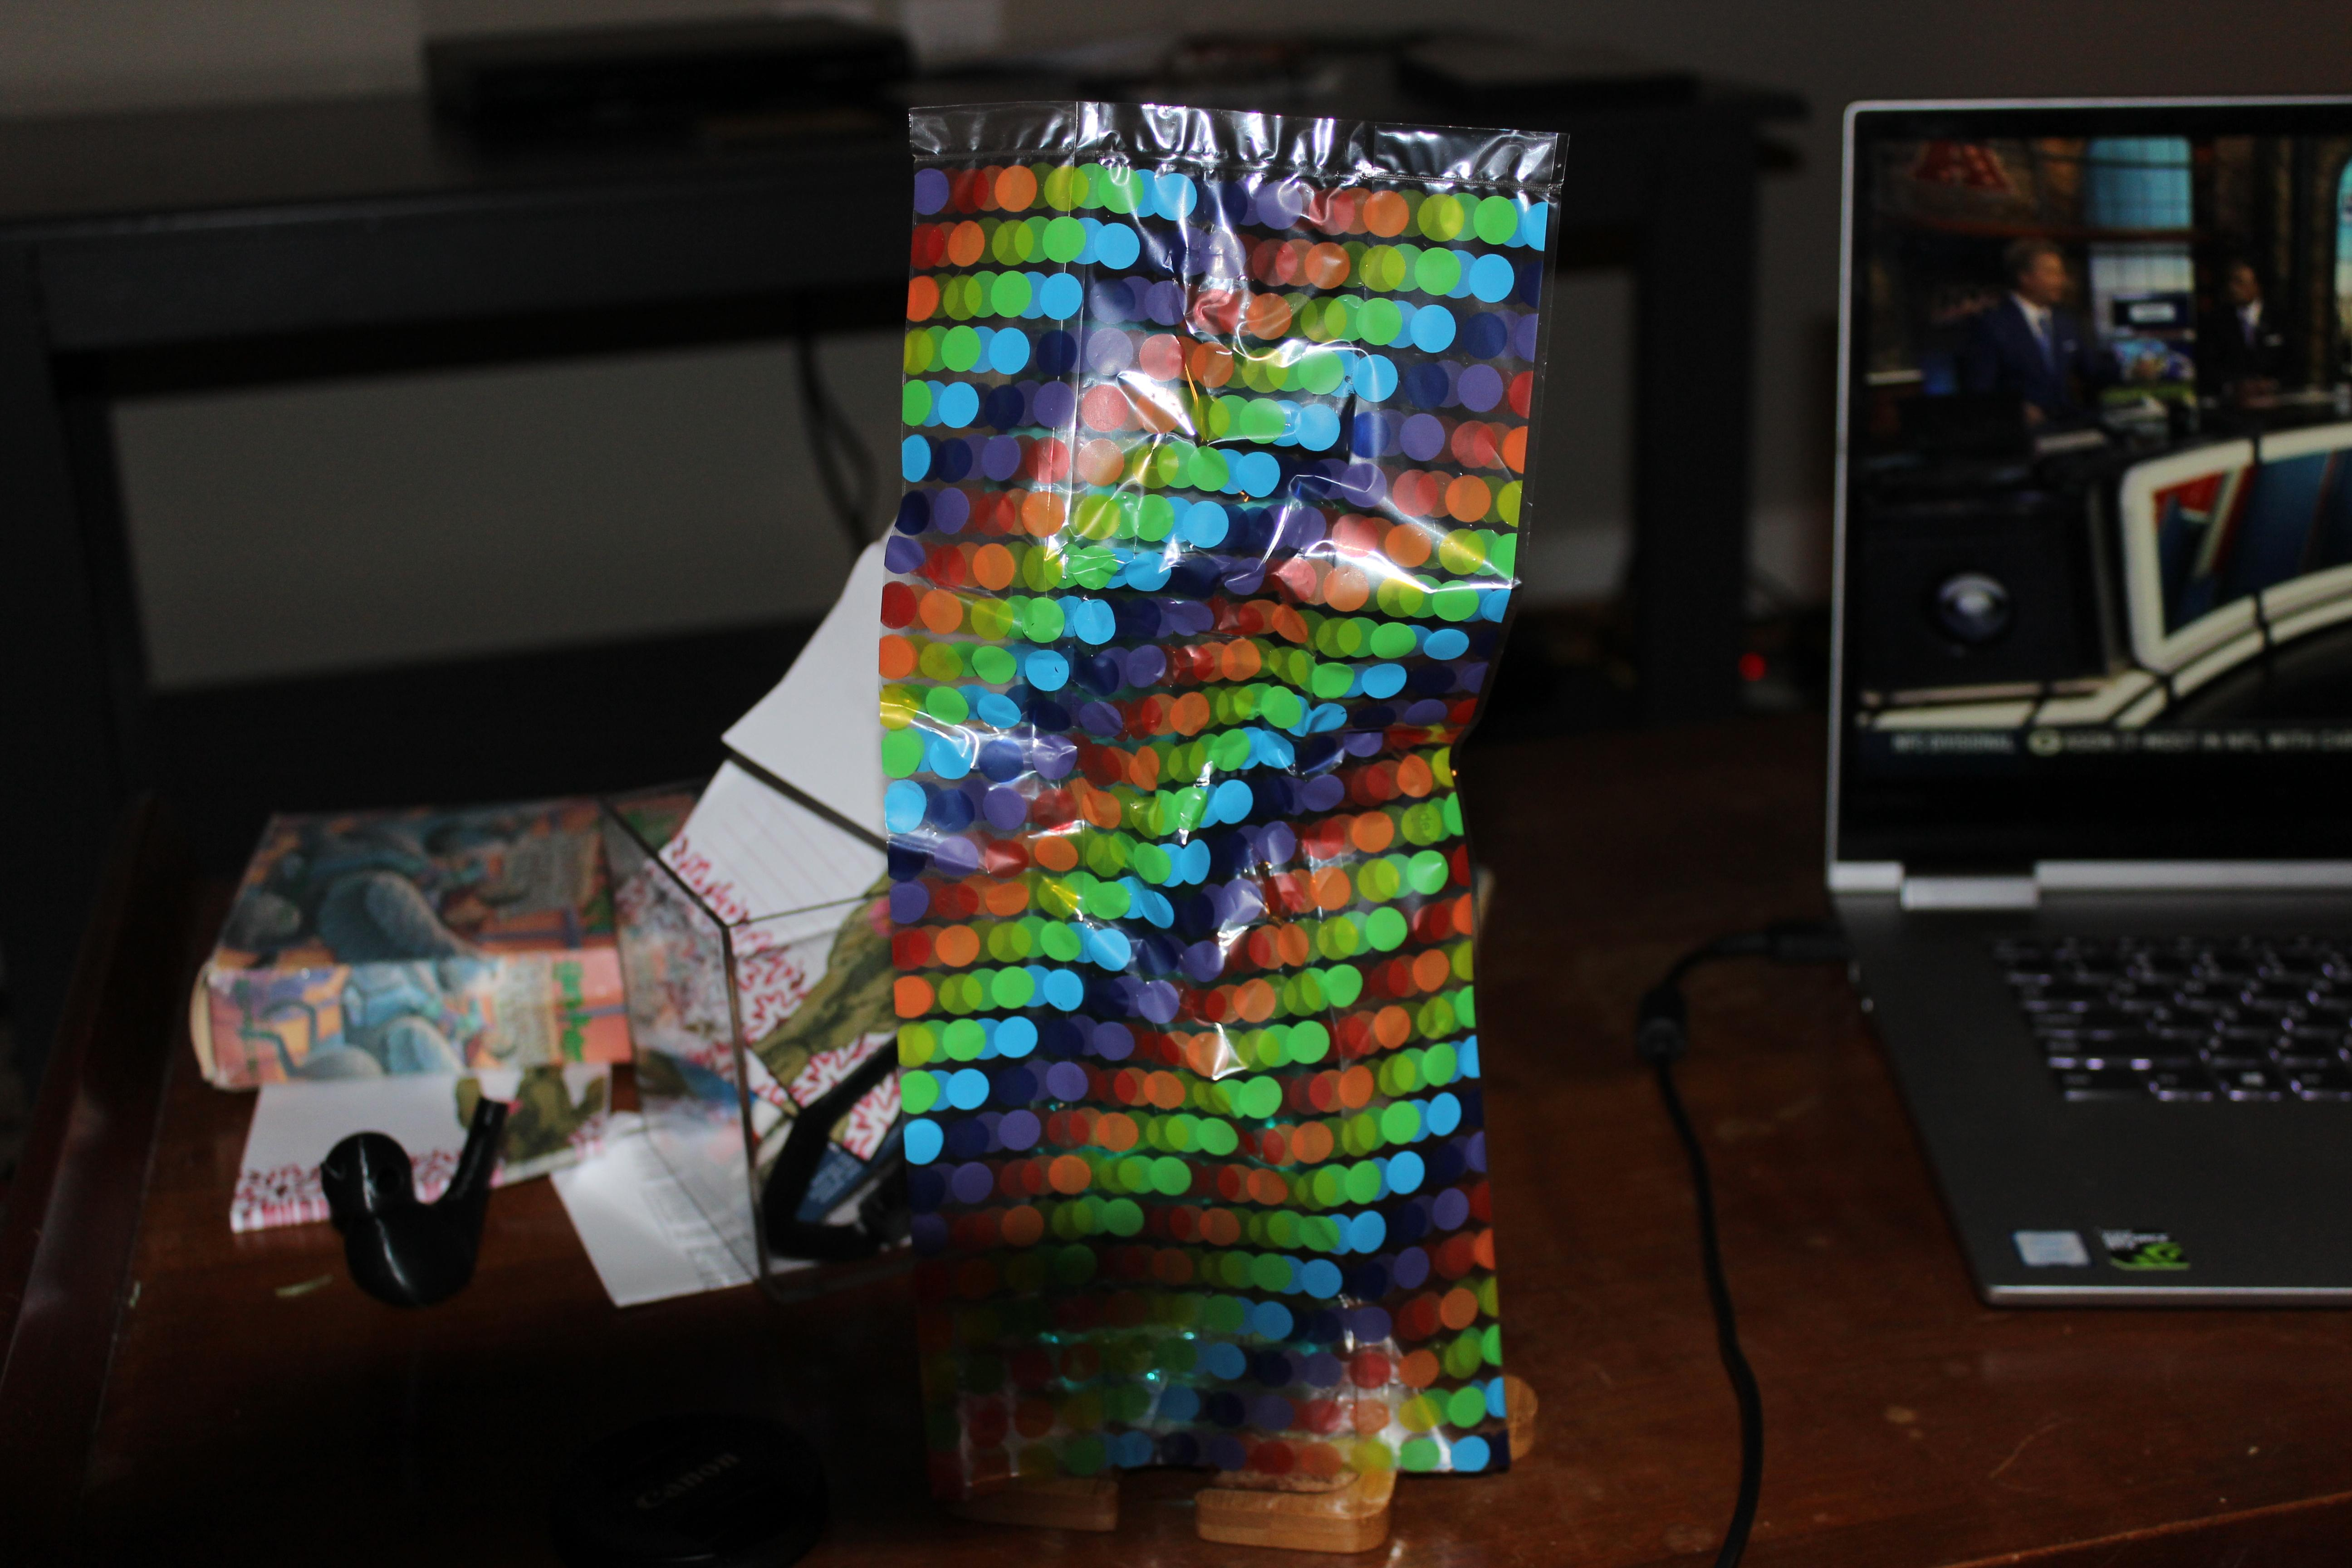giftBag: (863, 86, 1585, 1524)
